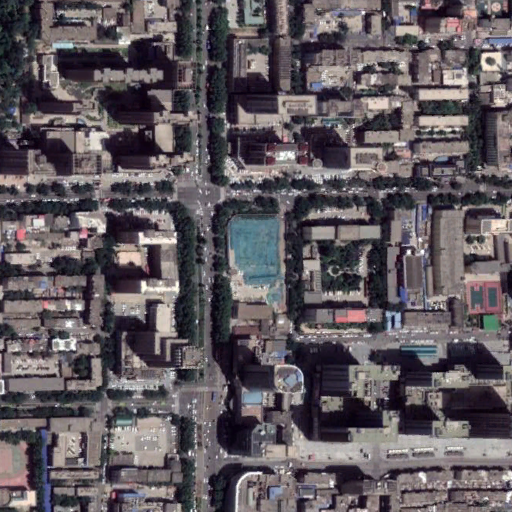cw: (228, 211, 285, 312)
